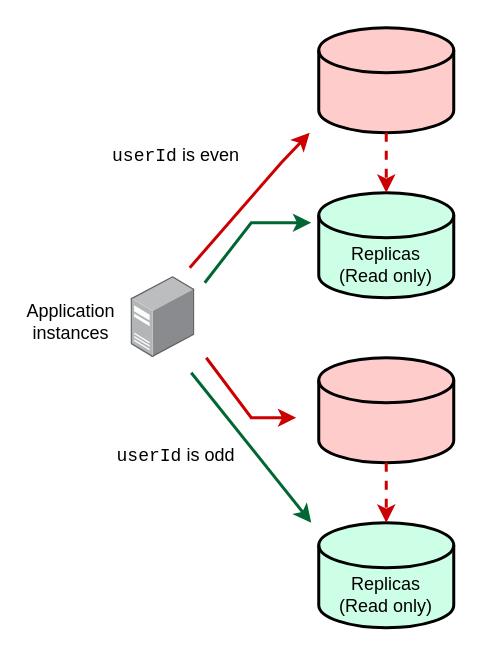
This 480x654 diagram has some shape labels left out. Each missing label, with the box of its shape:
Shard A (Read+Write): (316, 26, 454, 134)
Shard B (Read+Write): (316, 356, 454, 464)
